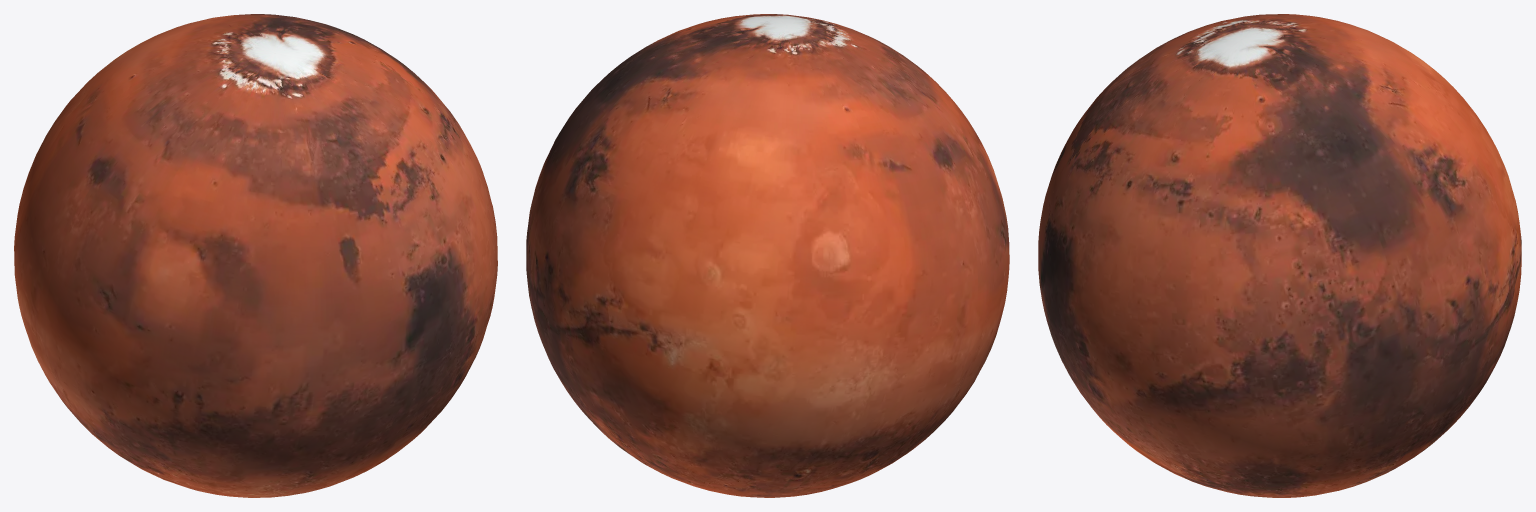
File: mars-transformed.glb
3 renders of one model, left to right at view 1: azimuth 30°, elevation 25°; view 2: azimuth 150°, elevation 25°; view 3: azimuth 270°, elevation 25°, orthographic.
Parts seen in each view (by area): view 1: mars_1; view 2: mars_1; view 3: mars_1.
Boxes of the visible parts, <box> form: mars_1: <box>14,14,497,497</box>; mars_1: <box>526,14,1009,497</box>; mars_1: <box>1038,14,1521,497</box>.
Size of the model in its own units: 5.09 by 5.09 by 5.09.
Materials: 1 (1 with a texture image).
